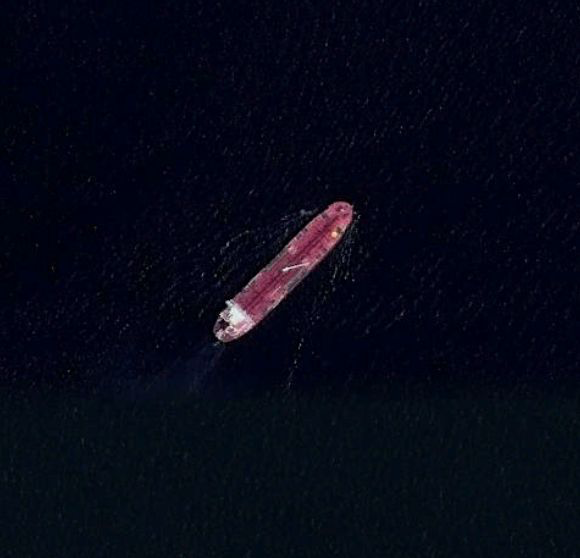boat: (213, 201, 355, 345)
